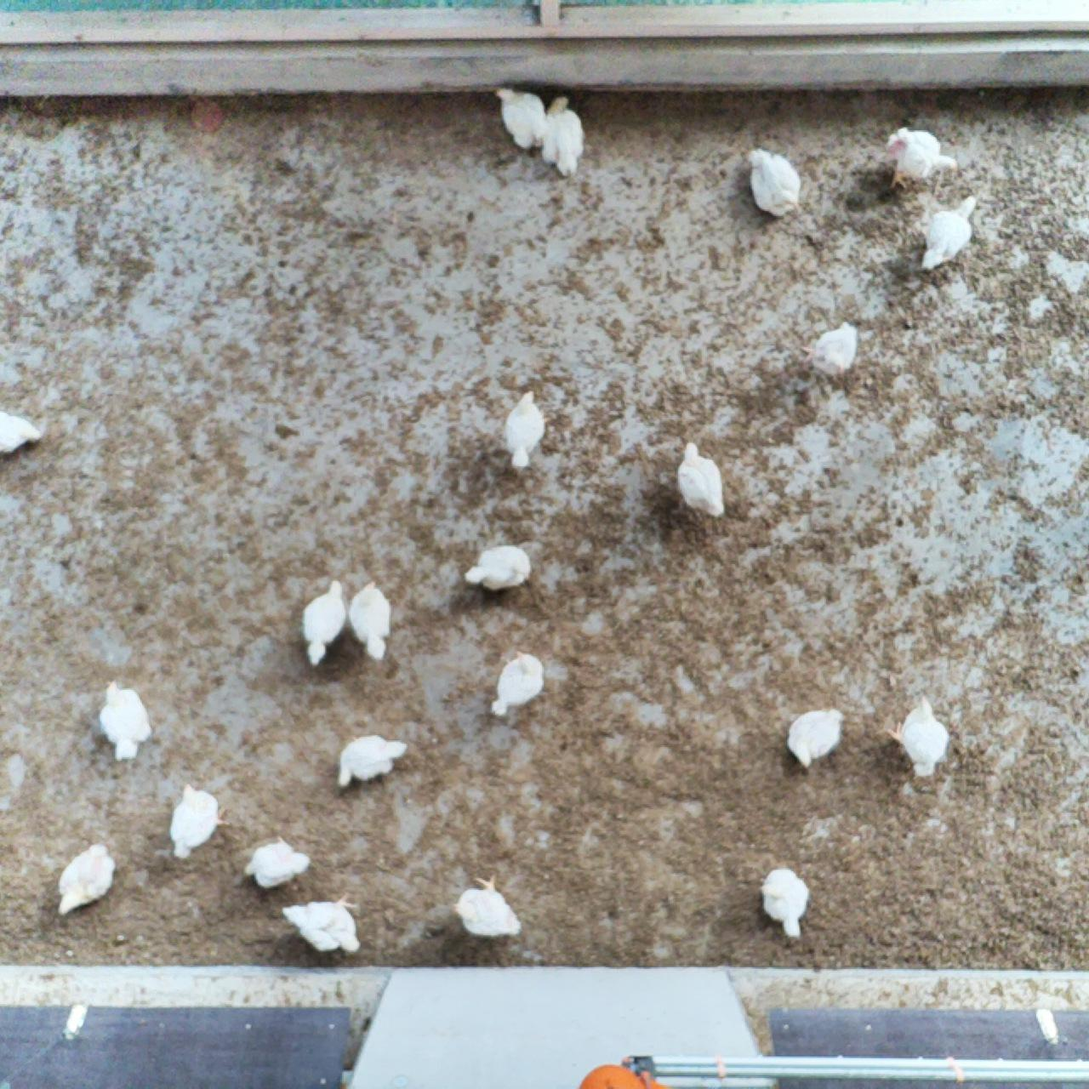chicken: (881, 692, 952, 781), (281, 891, 370, 956), (879, 124, 961, 190), (166, 781, 231, 862), (53, 840, 119, 919), (449, 873, 525, 940), (334, 731, 411, 795), (919, 194, 982, 272), (97, 677, 154, 763), (741, 144, 804, 220), (299, 577, 349, 667), (237, 835, 311, 892), (757, 865, 812, 941), (488, 647, 546, 719), (797, 318, 861, 383), (676, 439, 727, 520), (540, 94, 589, 178), (784, 705, 849, 768), (492, 83, 548, 152), (502, 387, 548, 471), (348, 580, 393, 664), (464, 541, 534, 594), (0, 409, 43, 457)
